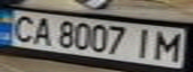0: (72, 20, 93, 52), (90, 21, 109, 54)
7: (106, 22, 130, 56)
8: (51, 17, 75, 50)
A: (27, 15, 57, 46)
C: (3, 11, 39, 44)
I: (130, 26, 160, 59)
M: (148, 29, 190, 62)
